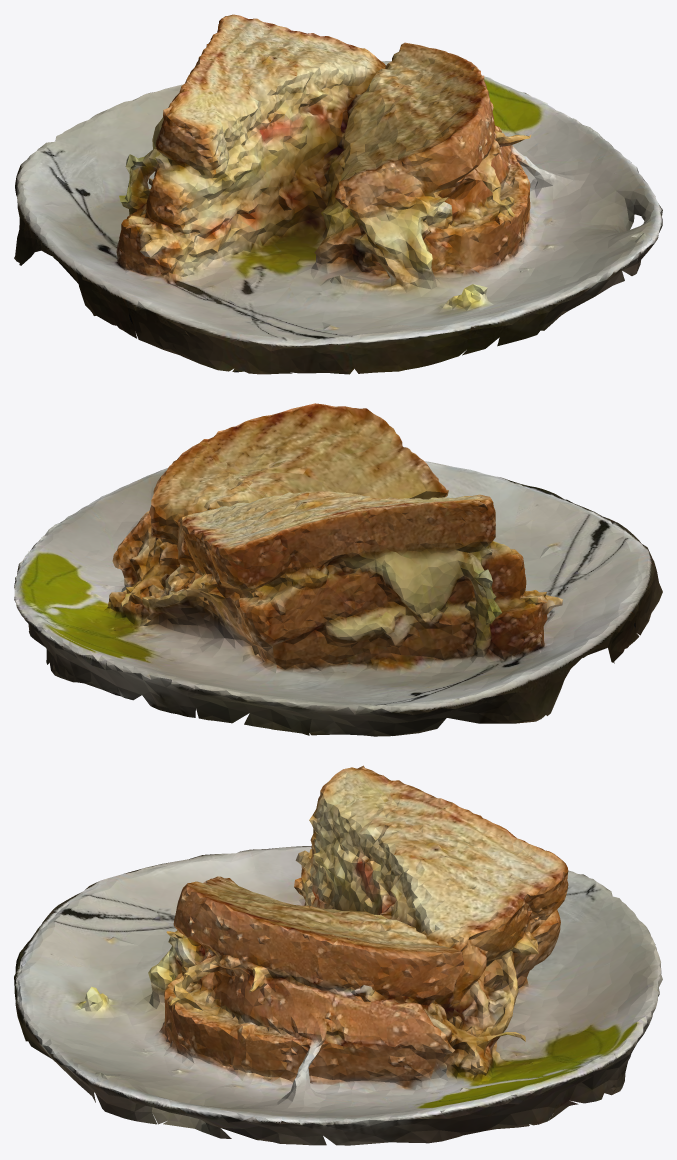
Rendered from sandwhich_baked.glb.
3 views of the same model, one above another, from view 1: azimuth 30°, elevation 25°; view 2: azimuth 150°, elevation 25°; view 3: azimuth 270°, elevation 25° (orthographic). The views are drawn at different scales.
Visible parts, largest first — view 1: Mesh_0; view 2: Mesh_0; view 3: Mesh_0.
Boxes of the visible parts, x1=… form: Mesh_0: x1=14, y1=14, x2=662, y2=374; Mesh_0: x1=14, y1=403, x2=662, y2=736; Mesh_0: x1=14, y1=765, x2=662, y2=1145.
Bounding box in the file's own units: 4.33 × 1.26 × 4.31.
Materials: 1 (1 with a texture image).
